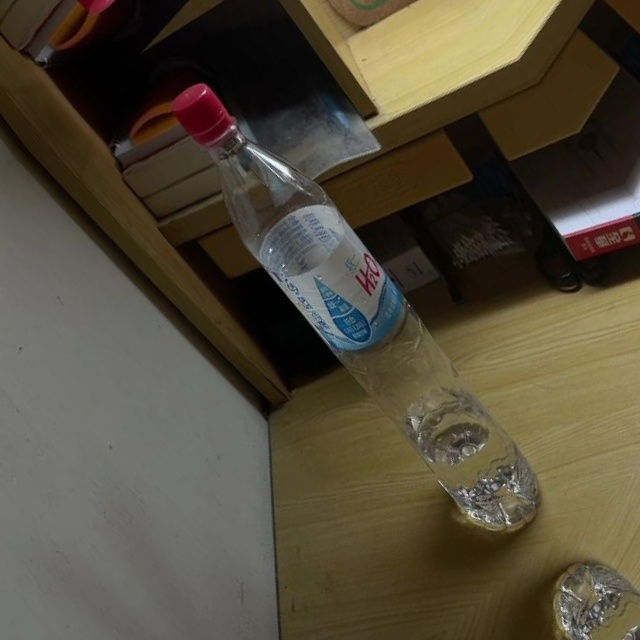Water: (139, 59, 573, 549)
